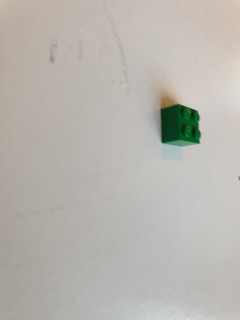2x2 green: (158, 99, 202, 153)
